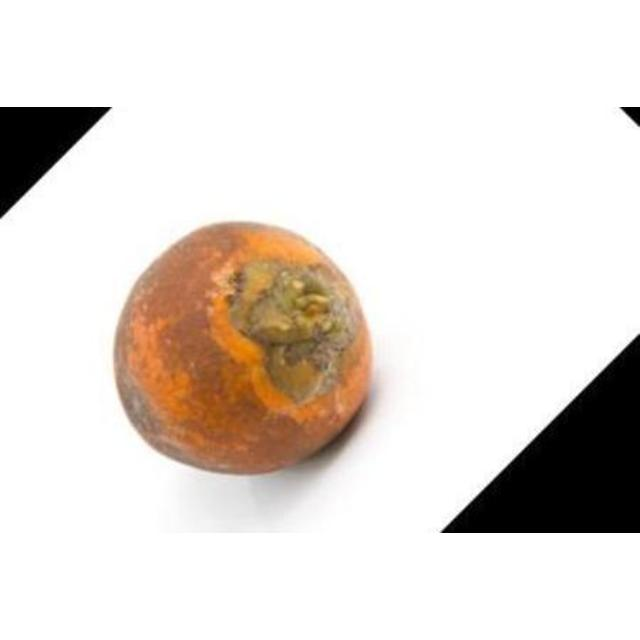good: (114, 222, 373, 477)
